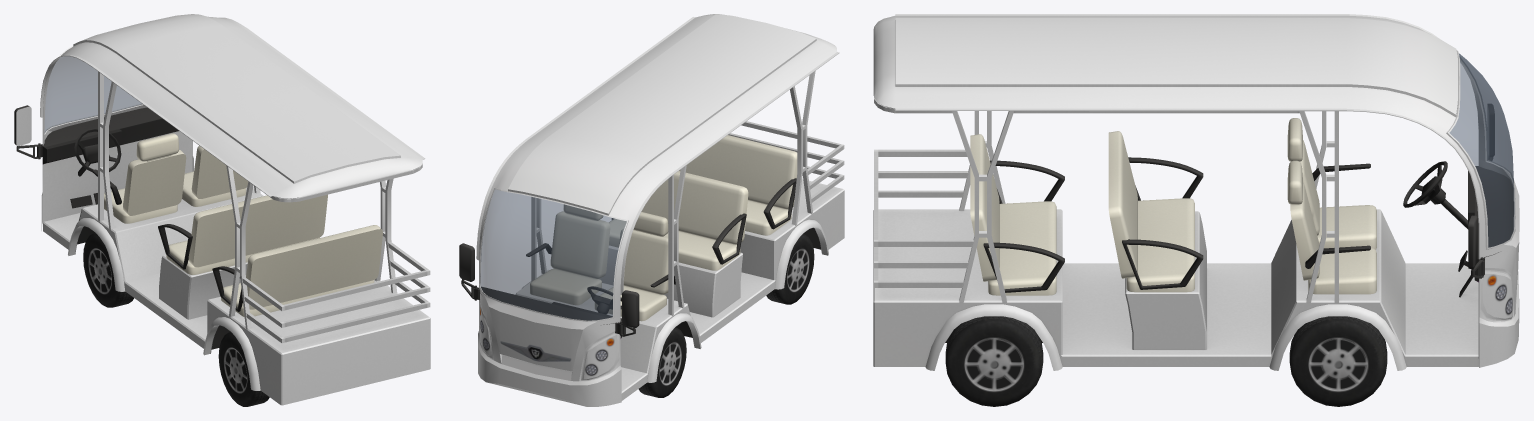
Rendered from buggy.glb.
3 views of the same model, side by side, from view 1: azimuth 30°, elevation 25°; view 2: azimuth 150°, elevation 25°; view 3: azimuth 270°, elevation 25° (orthographic). The views are drawn at different scales.
Parts seen in each view (by area): view 1: buggy; view 2: buggy; view 3: buggy.
Boxes of the visible parts, bbox=[...] form: buggy: bbox=[14, 14, 430, 406]; buggy: bbox=[459, 14, 844, 406]; buggy: bbox=[873, 14, 1519, 406].
Bounding box in the file's own units: 1.95 × 2.37 × 4.36.
Materials: 2 (2 with a texture image).
